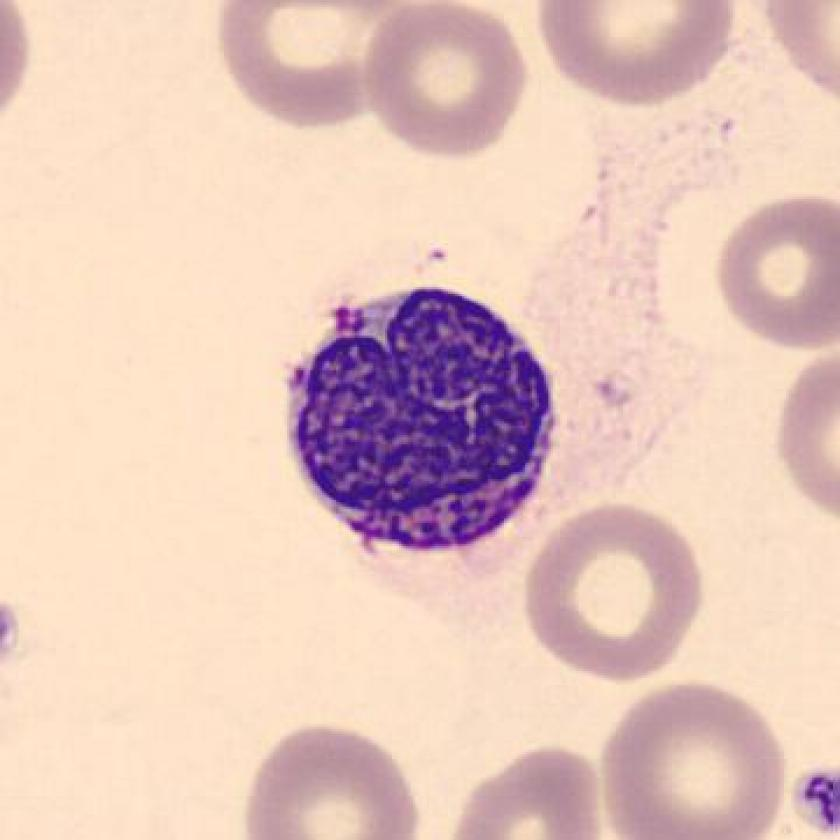basophil: (281, 279, 554, 556)
